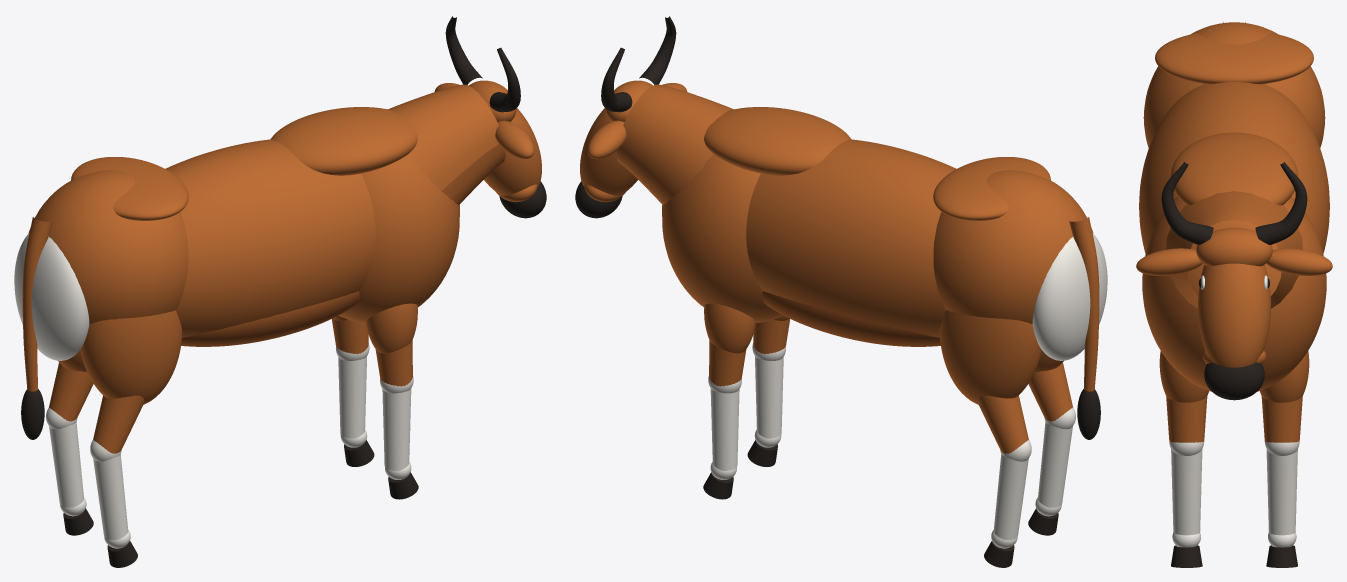
The model's file is sapi_bali.glb.
3 renders of one model, left to right at view 1: azimuth 30°, elevation 25°; view 2: azimuth 150°, elevation 25°; view 3: azimuth 270°, elevation 25°, orthographic. The views are drawn at different scales.
Parts seen in each view (by area): view 1: barrel, rump, chest, neck, withers, thigh_R, rump_patch_white, hip_points, belly, tail, hind_stocking_R, hind_stocking_L (+14 smaller); view 2: barrel, rump, chest, neck, withers, thigh_L, rump_patch_white, hip_points, belly, tail, hind_stocking_L, hind_stocking_R (+14 smaller); view 3: barrel, chest, withers, head, hip_points, rump, neck, fore_stocking_L, fore_stocking_R, forehead, muzzle, fore_upper_L (+13 smaller).
Part boxes in pixels (bbox=[...]): barrel: bbox=[165, 139, 375, 337]; rump: bbox=[28, 170, 188, 324]; chest: bbox=[338, 154, 459, 322]; neck: bbox=[388, 84, 505, 205]; withers: bbox=[270, 107, 417, 175]; thigh_R: bbox=[80, 310, 182, 404]; rump_patch_white: bbox=[14, 233, 89, 360]; hip_points: bbox=[71, 157, 188, 220]; belly: bbox=[181, 291, 359, 346]; tail: bbox=[22, 217, 52, 391]; hind_stocking_R: bbox=[93, 454, 128, 540]; hind_stocking_L: bbox=[49, 422, 83, 507]; barrel: bbox=[746, 139, 956, 337]; rump: bbox=[933, 170, 1093, 324]; chest: bbox=[662, 154, 783, 322]; neck: bbox=[616, 84, 733, 205]; withers: bbox=[704, 107, 851, 175]; thigh_L: bbox=[939, 310, 1041, 404]; rump_patch_white: bbox=[1032, 233, 1107, 360]; hip_points: bbox=[933, 157, 1050, 220]; belly: bbox=[762, 291, 940, 346]; tail: bbox=[1069, 217, 1099, 391]; hind_stocking_L: bbox=[993, 454, 1028, 540]; hind_stocking_R: bbox=[1038, 422, 1072, 507]; barrel: bbox=[1139, 82, 1329, 253]; chest: bbox=[1142, 196, 1326, 391]; withers: bbox=[1171, 132, 1297, 205]; head: bbox=[1198, 263, 1270, 367]; hip_points: bbox=[1155, 33, 1313, 84]; rump: bbox=[1143, 22, 1325, 147]; neck: bbox=[1166, 191, 1302, 308]; fore_stocking_L: bbox=[1266, 449, 1297, 535]; fore_stocking_R: bbox=[1171, 449, 1202, 535]; forehead: bbox=[1196, 227, 1272, 266]; muzzle: bbox=[1204, 362, 1264, 400]; fore_upper_L: bbox=[1261, 396, 1302, 442].
Bounding box in the file's own units: 2.04 × 1.59 × 0.6177.
